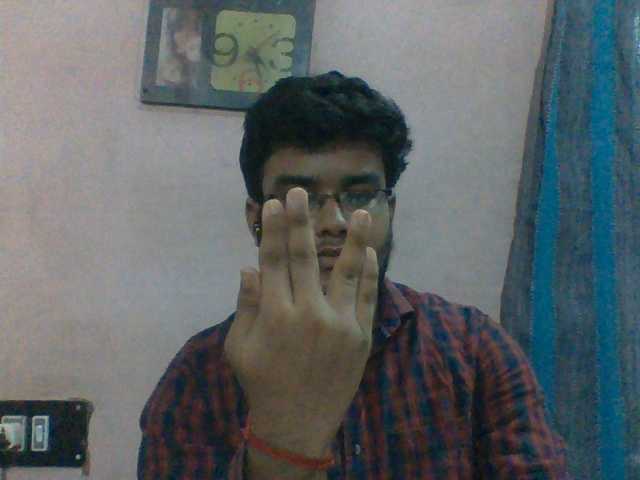LiveLong: (224, 187, 379, 461)
